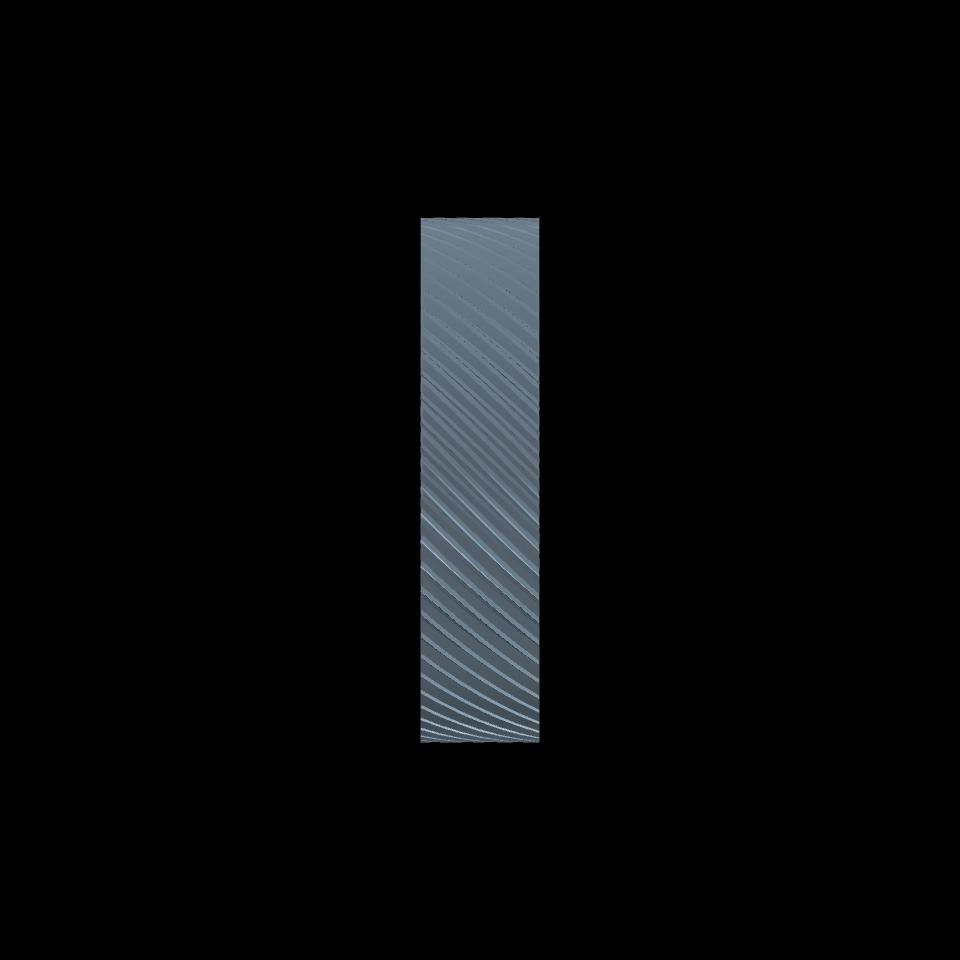Helical: (420, 218, 539, 741)
